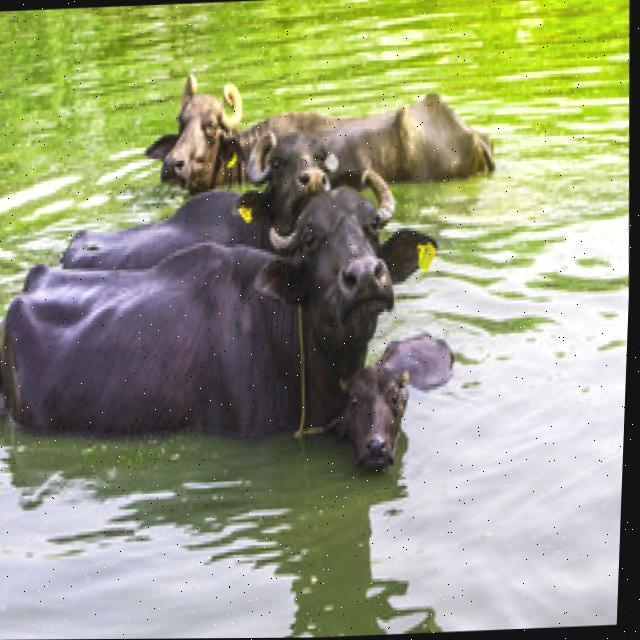Buffalo: (0, 167, 401, 423)
